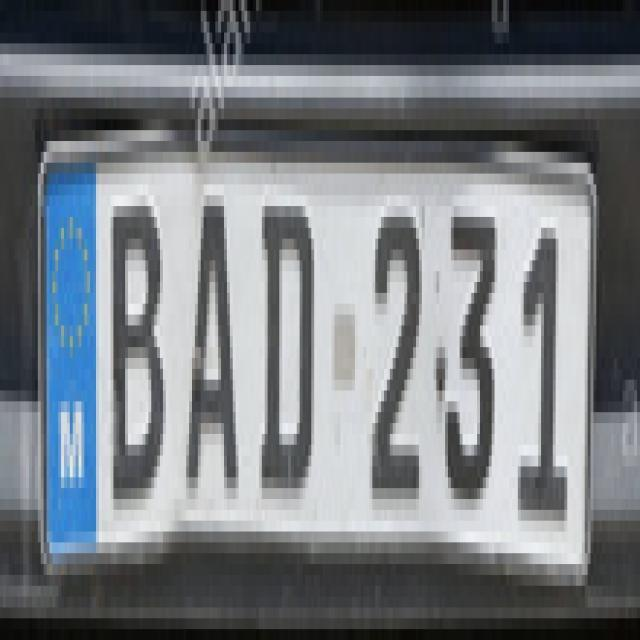1: (514, 191, 574, 540)
3: (445, 177, 507, 521)
A: (176, 175, 246, 523)
B: (108, 177, 171, 525)
D: (258, 175, 320, 495)
